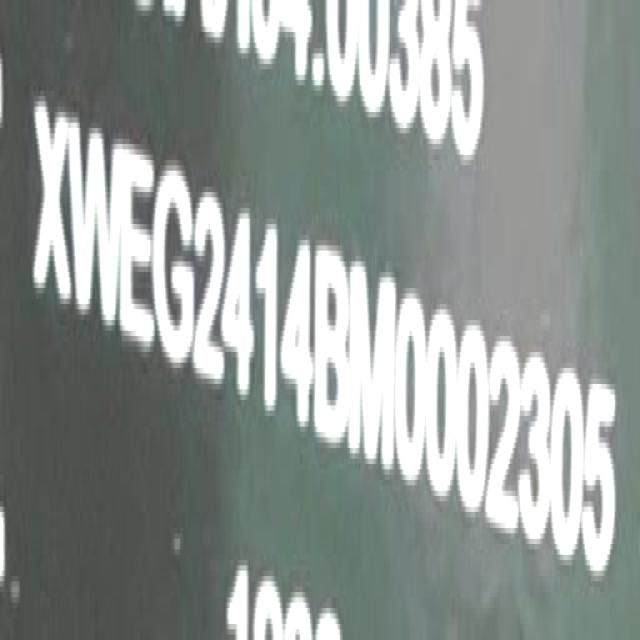0: (551, 357, 586, 565), (393, 286, 428, 494), (425, 302, 458, 507), (456, 322, 489, 522)
1: (255, 214, 279, 422)
2: (485, 331, 523, 541), (193, 189, 227, 388)
3: (518, 346, 553, 555)
4: (280, 232, 316, 438), (223, 200, 255, 405)
5: (584, 371, 622, 581)
B: (314, 242, 352, 452)
E: (116, 129, 157, 352)
G: (152, 153, 195, 374)
M: (350, 258, 398, 476)
W: (69, 105, 122, 341)
X: (27, 87, 72, 319)
